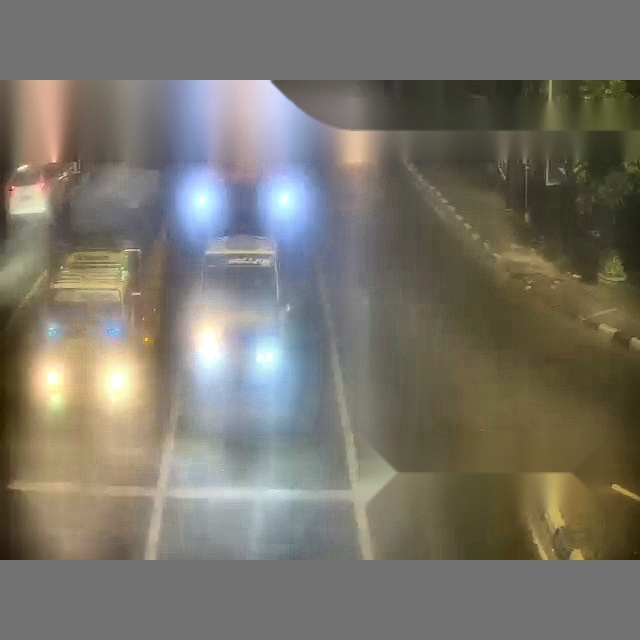Truk: (184, 87, 640, 557)
